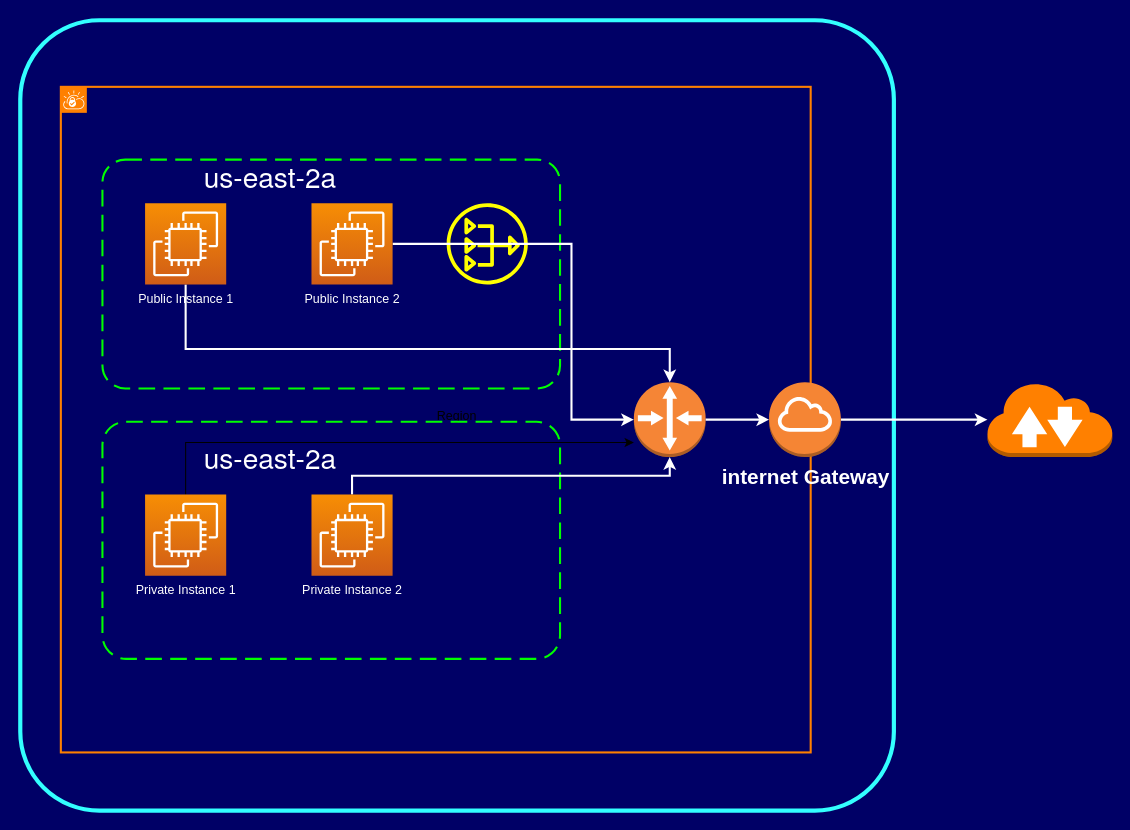
Image size: 1130x830. Some labels were removed from this diagram. The box of each missing label's shape, as (x1, y1, x2, y2) in pixels:
NAT Gateway: (446, 203, 527, 284)
Router: (633, 381, 706, 457)
VPC: (59, 85, 811, 753)
